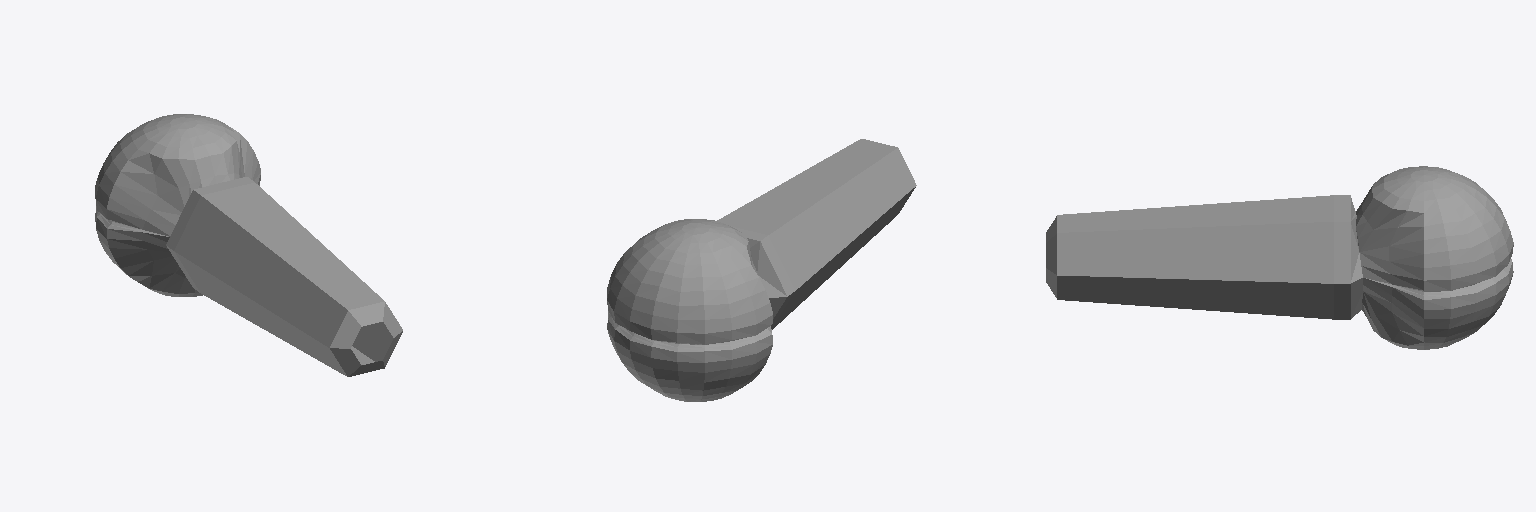
The model's file is thigh.obj.
The picture shows the model from 3 angles: view 1: azimuth 30°, elevation 25°; view 2: azimuth 150°, elevation 25°; view 3: azimuth 270°, elevation 25°; orthographic projection.
Parts seen in each view (by area): view 1: Sphere; view 2: Sphere; view 3: Sphere.
Part boxes in pixels (left/top/right/bottom): Sphere: left=95, top=114, right=402, bottom=376; Sphere: left=607, top=139, right=916, bottom=401; Sphere: left=1046, top=166, right=1513, bottom=349.
Bounding box in the file's own units: 8.01 × 7.99 × 20.97.